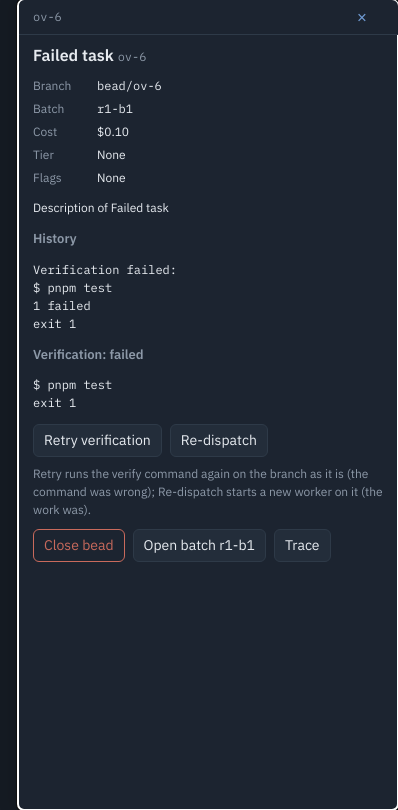
TaskPane › shows the action in progress on its button and disables the others before the request resolves
The image size is (398, 810).
Click the button "Retry verification" at x=97, y=440, box [33,424,162,457]
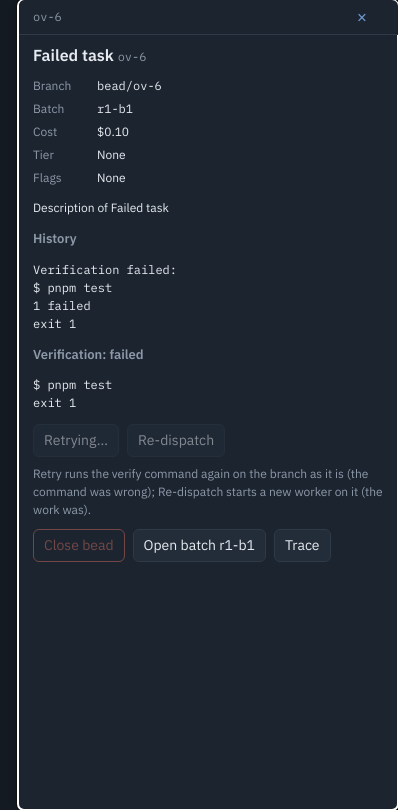
Expected: the button "Retrying…" is shown, [33,424,119,457]
